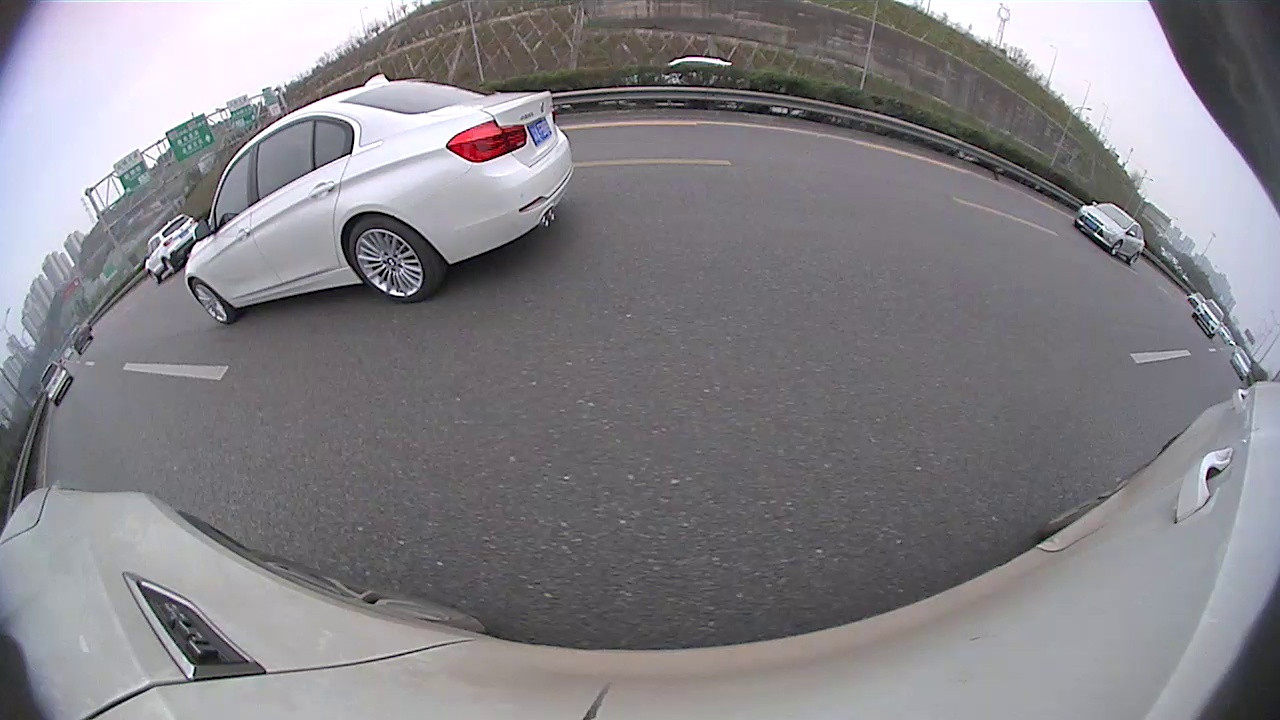car: (182, 71, 576, 326), (1072, 199, 1147, 267), (142, 213, 198, 286), (38, 359, 75, 409), (1190, 298, 1226, 339), (65, 322, 94, 357), (1228, 347, 1254, 382)
front: (192, 278, 232, 323), (1110, 240, 1123, 257), (148, 270, 160, 285)
rear: (350, 223, 436, 302), (163, 257, 176, 275), (1128, 252, 1140, 266)
